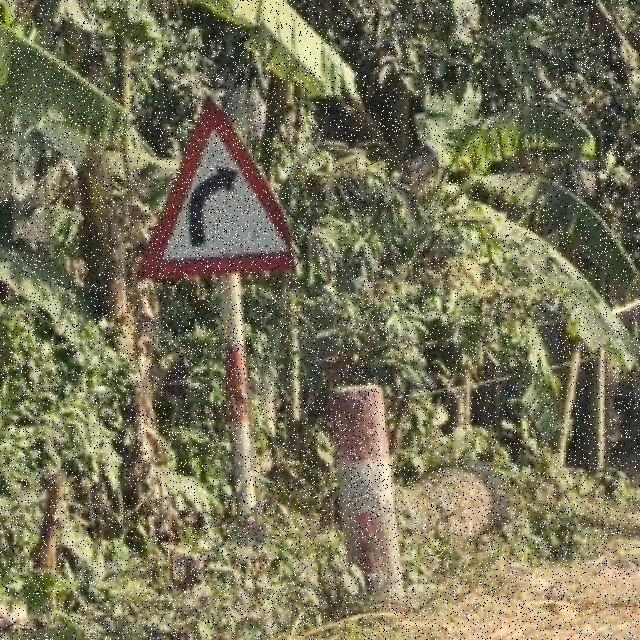Right-turn: (135, 98, 301, 286)
